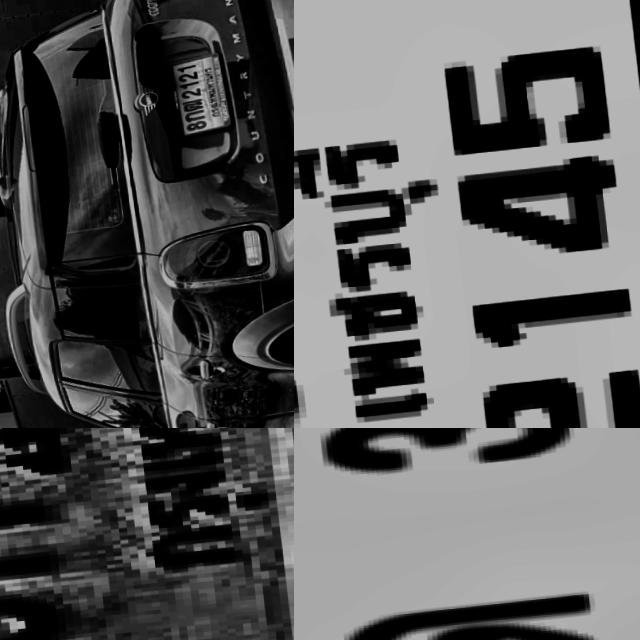license-plate: (294, 0, 640, 428), (294, 428, 640, 640), (0, 428, 294, 640), (160, 53, 235, 139)
